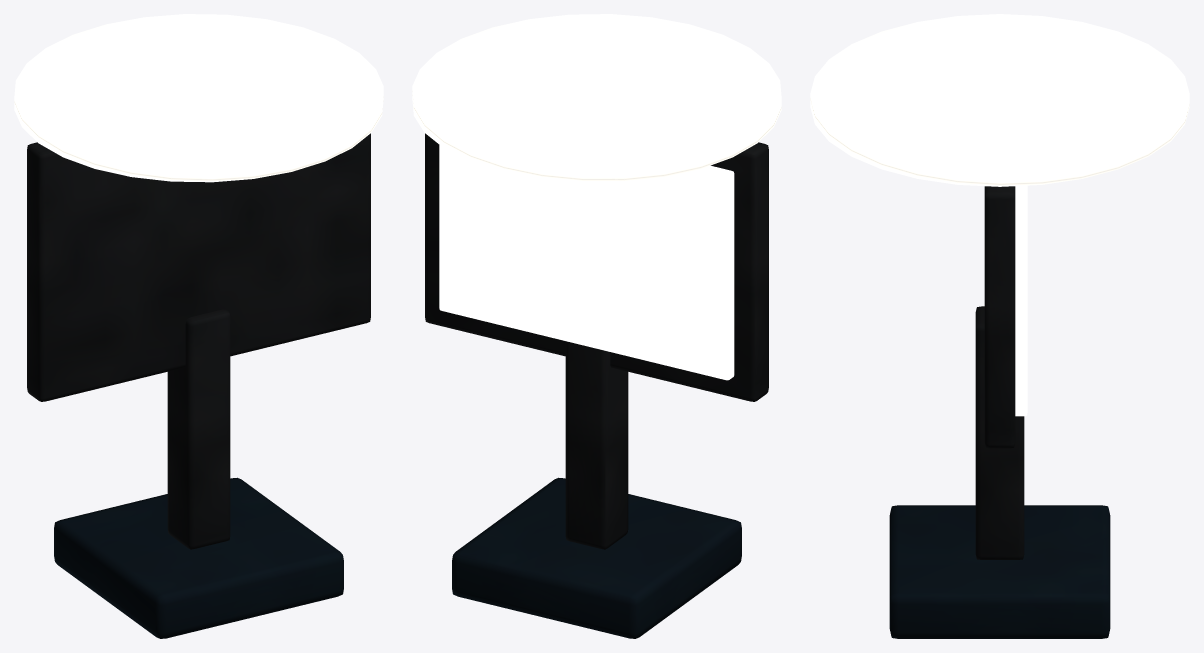
File: pack.agentspace.ad.grove.01.glb
3 renders of one model, left to right at view 1: azimuth 30°, elevation 25°; view 2: azimuth 150°, elevation 25°; view 3: azimuth 270°, elevation 25°, orthographic. The views are drawn at different scales.
Visible parts, largest first — view 1: CompanyAdFrame.001, CompanyAdAccent.001, CompanyAdBase.001, CompanyAdStem.001; view 2: CompanyAdGlow.001, CompanyAdAccent.001, CompanyAdBase.001, CompanyAdFrame.001, CompanyAdStem.001; view 3: CompanyAdAccent.001, CompanyAdBase.001, CompanyAdFrame.001, CompanyAdStem.001, CompanyAdGlow.001.
Boxes of the visible parts, x1,y1,x2,y2 form: CompanyAdFrame.001: (27,133,370,401); CompanyAdAccent.001: (14,14,383,182); CompanyAdBase.001: (54,477,343,638); CompanyAdStem.001: (167,309,230,549); CompanyAdGlow.001: (439,145,734,380); CompanyAdAccent.001: (412,14,781,182); CompanyAdBase.001: (452,477,741,638); CompanyAdFrame.001: (425,133,768,401); CompanyAdStem.001: (565,341,628,549); CompanyAdAccent.001: (810,14,1189,186); CompanyAdBase.001: (889,505,1110,638); CompanyAdFrame.001: (984,186,1015,448); CompanyAdStem.001: (975,306,1024,559); CompanyAdGlow.001: (1015,185,1027,416).
Size of the model in its own units: 1.28 by 1.8 by 1.24.
5 materials, 2 textured.
